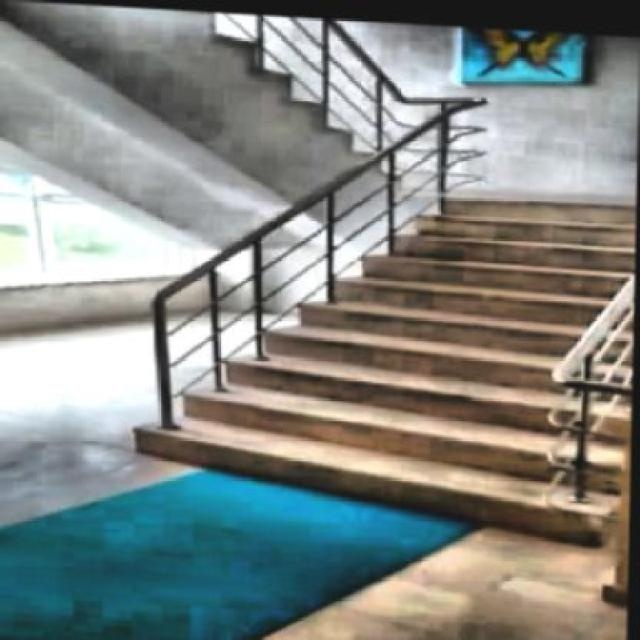stair: (110, 154, 635, 532)
